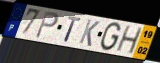7: (21, 7, 43, 38)
G: (98, 21, 122, 52)
H: (114, 25, 144, 55)
K: (77, 18, 101, 48)
P: (34, 10, 60, 40)
T: (62, 16, 82, 44)
